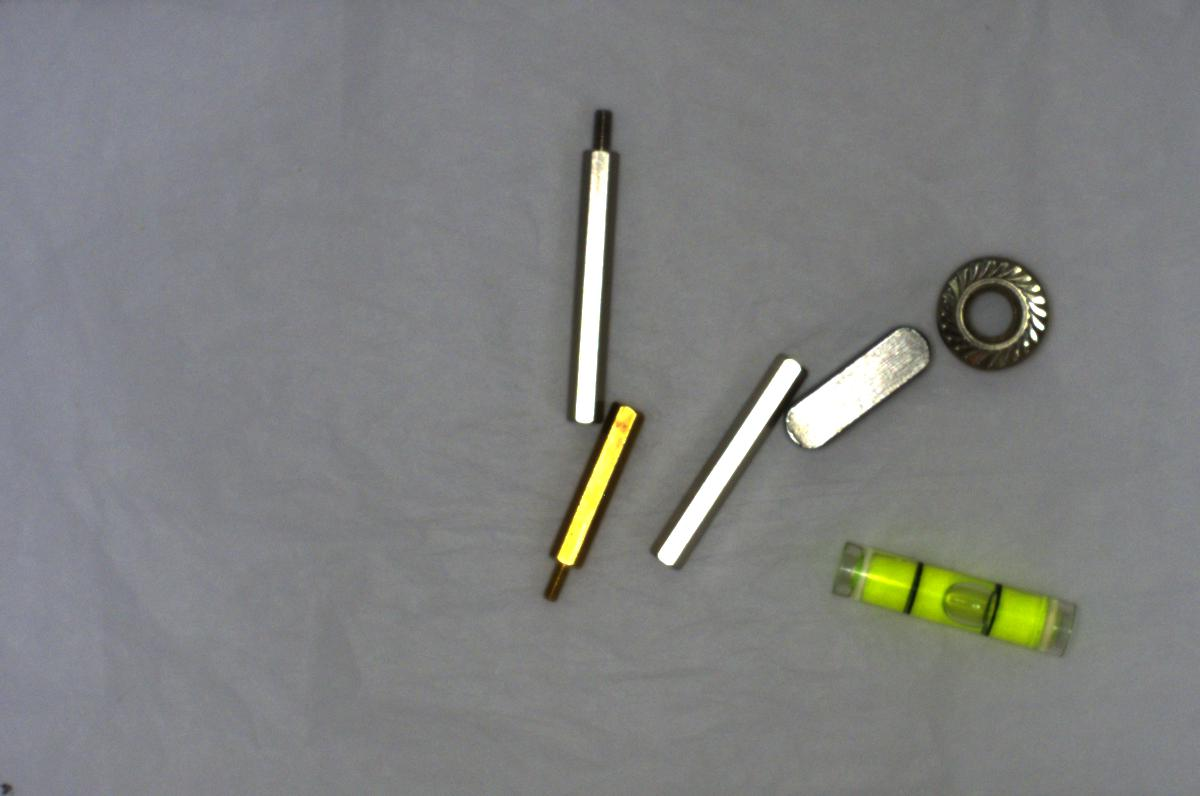Double hexagonal column: (646, 348, 812, 574)
Flange nut: (933, 241, 1061, 380)
Hexagon pillar: (525, 390, 642, 615)
Hexagonal steel column: (557, 98, 621, 426)
Horizontal bubble: (825, 535, 1083, 660)
Keybar: (776, 322, 943, 454)
